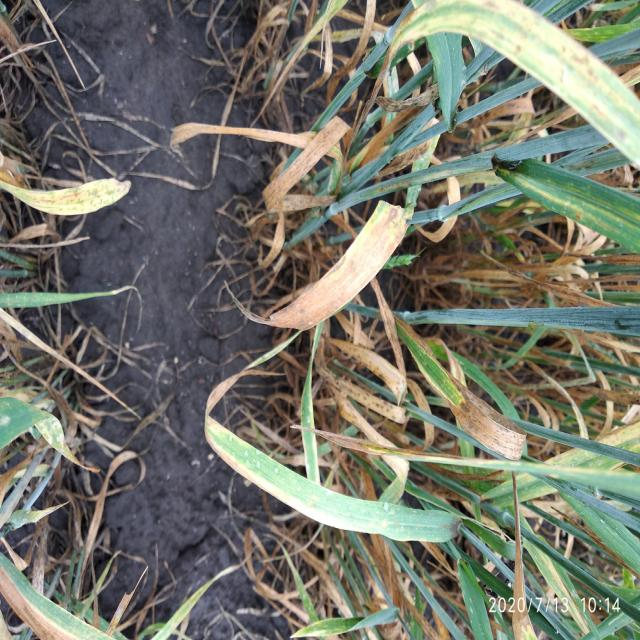wheat-septoria: (390, 0, 640, 172)
